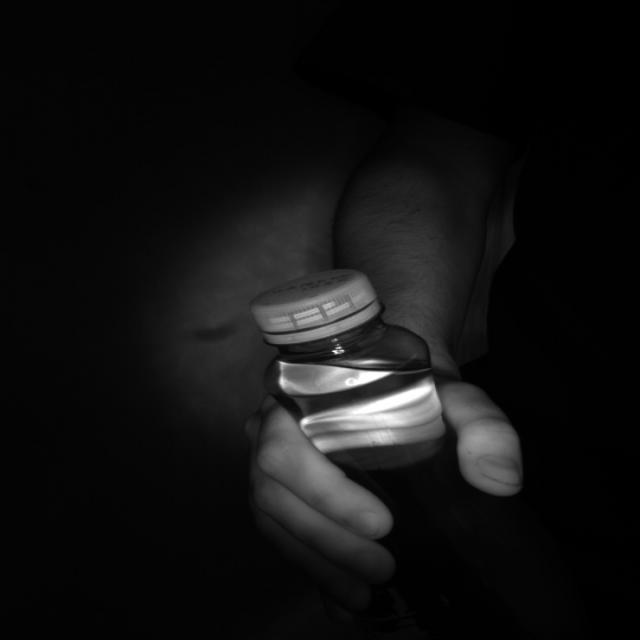Not Good: (253, 270, 381, 343)
